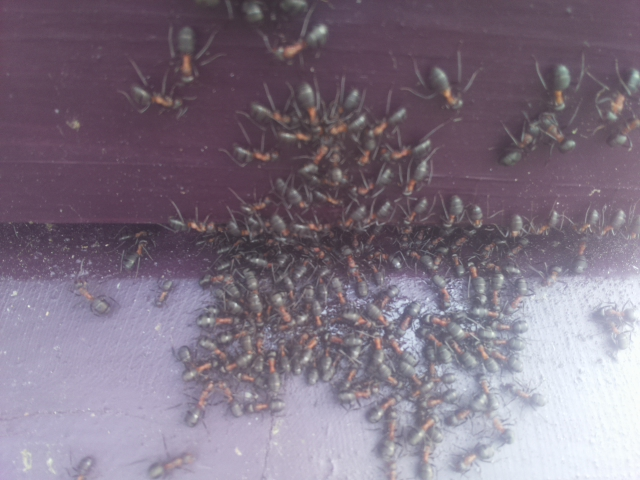ant: (490, 105, 551, 179), (438, 313, 505, 378), (408, 244, 462, 318), (525, 99, 586, 162), (594, 76, 640, 158), (120, 69, 190, 119), (273, 14, 337, 68), (65, 266, 119, 328), (166, 15, 204, 93), (290, 72, 333, 138), (167, 336, 219, 390), (361, 98, 417, 147), (321, 80, 369, 137), (137, 445, 203, 480), (593, 300, 637, 352), (537, 63, 581, 114), (177, 380, 222, 428), (414, 323, 462, 367), (431, 190, 480, 233), (337, 243, 374, 299), (243, 95, 299, 131), (424, 63, 466, 110), (236, 263, 268, 323), (360, 389, 409, 427), (451, 439, 499, 477), (228, 136, 280, 171), (269, 171, 312, 212), (495, 380, 550, 412), (267, 281, 299, 335), (381, 136, 435, 167), (400, 151, 432, 201), (119, 231, 154, 273), (213, 376, 247, 419), (466, 258, 493, 312), (163, 213, 229, 235), (56, 449, 102, 480), (392, 297, 425, 336), (430, 266, 453, 319), (401, 417, 442, 446), (508, 272, 535, 315), (506, 213, 532, 255), (569, 236, 591, 279), (150, 275, 179, 307), (598, 203, 625, 237), (374, 284, 402, 312), (191, 273, 234, 289), (490, 413, 512, 444), (542, 264, 562, 287)
